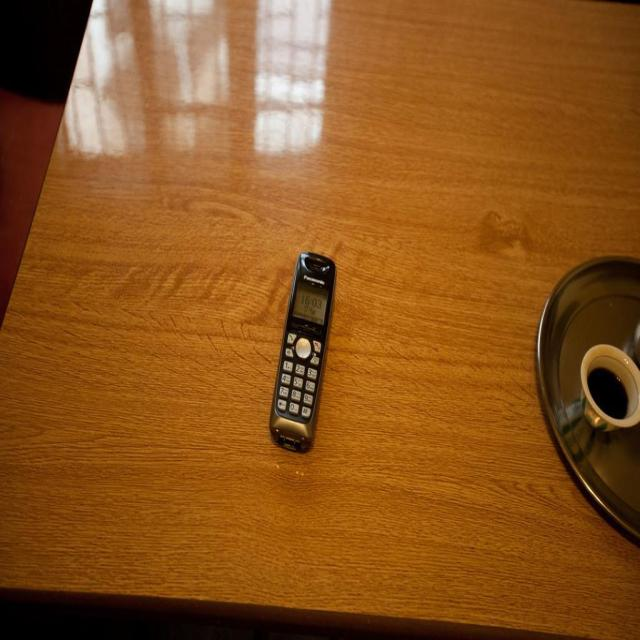Phone: (270, 251, 336, 451)
